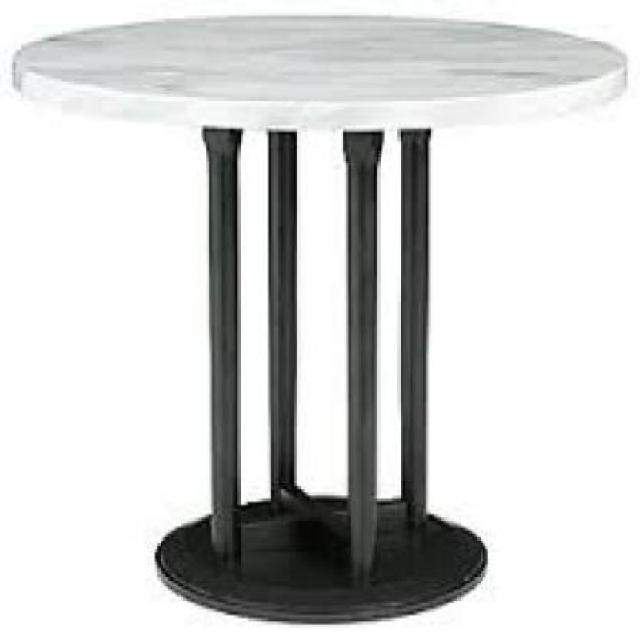tables: (10, 12, 628, 623)
